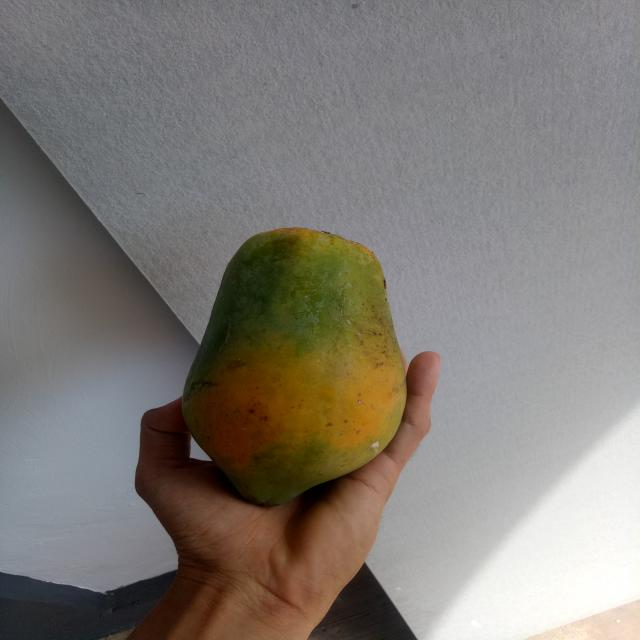Pepaya rippen: (171, 226, 415, 503)
